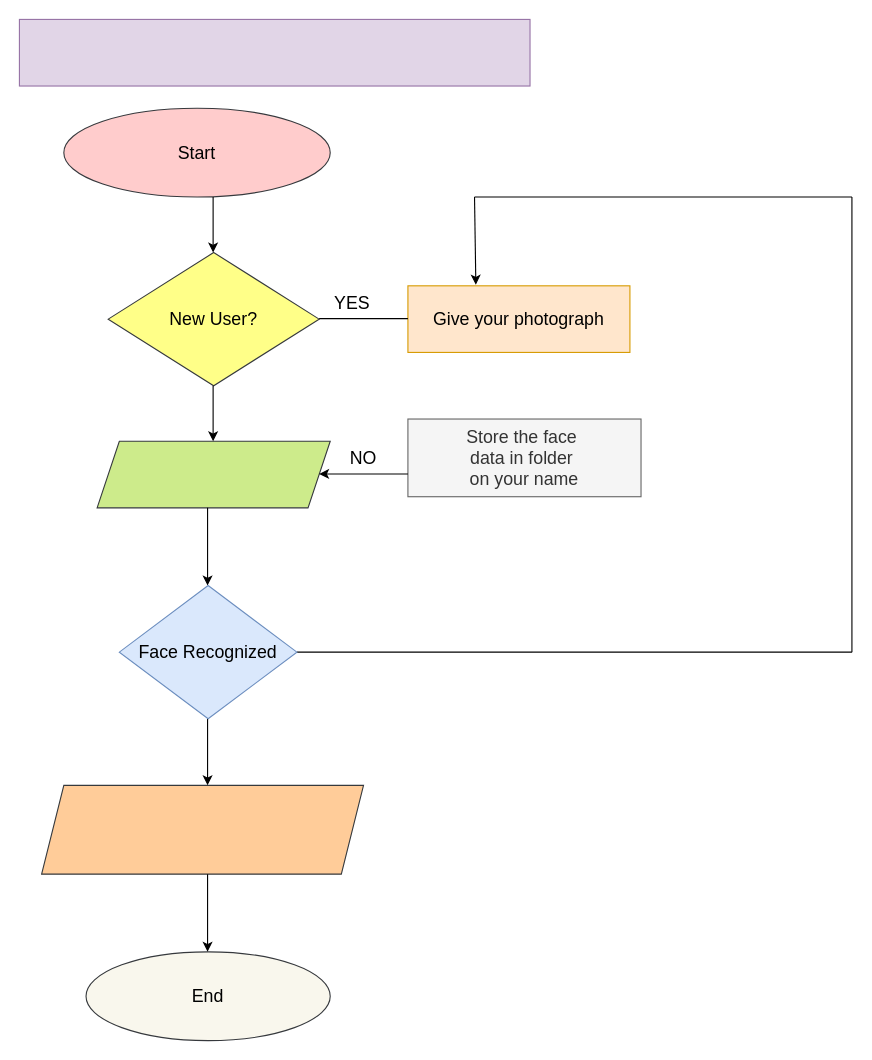
The diagram is 872 pixels wide and 1060 high, and some of its shapes have lost their labels. Here are the shapes that lost their labels. From the top down, the centre of each, then its label:
point 274,52: DevOps Visualization
point 213,474: Recognise the face
point 202,829: Stored in CSV file with registration Number & date Time of entry
